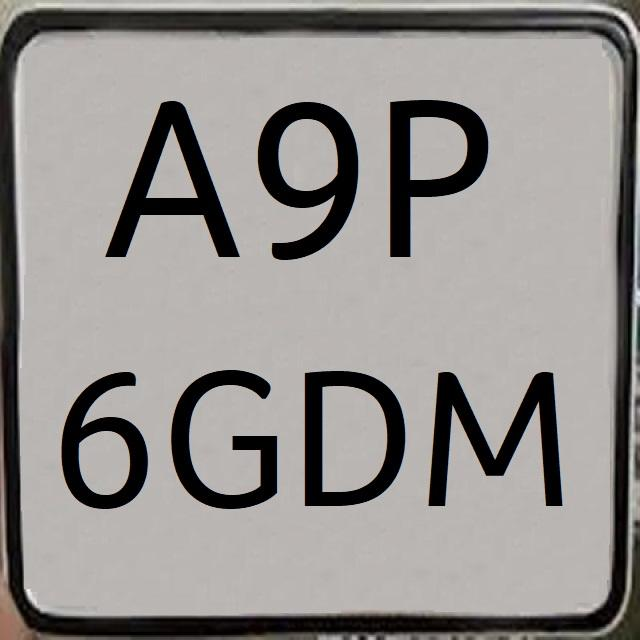6: (50, 347, 148, 520)
A: (96, 74, 244, 288)
C: (166, 350, 279, 513)
D: (300, 363, 409, 520)
M: (422, 358, 562, 512)
P: (383, 88, 495, 274)
